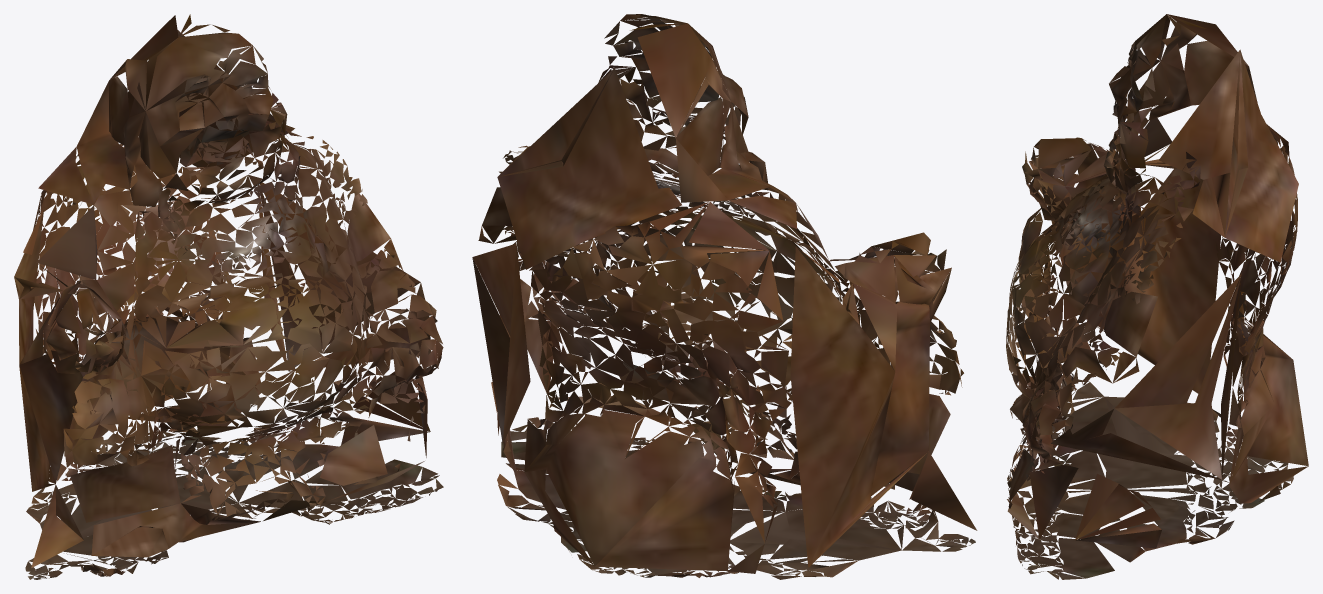
Rendered from far.glb.
3 views of the same model, side by side, from view 1: azimuth 30°, elevation 25°; view 2: azimuth 150°, elevation 25°; view 3: azimuth 270°, elevation 25° (orthographic). The views are drawn at different scales.
Visible parts, largest first — view 1: statue-024; view 2: statue-024; view 3: statue-024.
Part boxes in pixels (x1,y1,x2,y2): statue-024: [14, 14, 443, 579]; statue-024: [472, 14, 977, 579]; statue-024: [1006, 14, 1308, 579].
Bounding box in the file's own units: 0.9634 × 0.9997 × 0.5871.
1 material, 1 textured.
